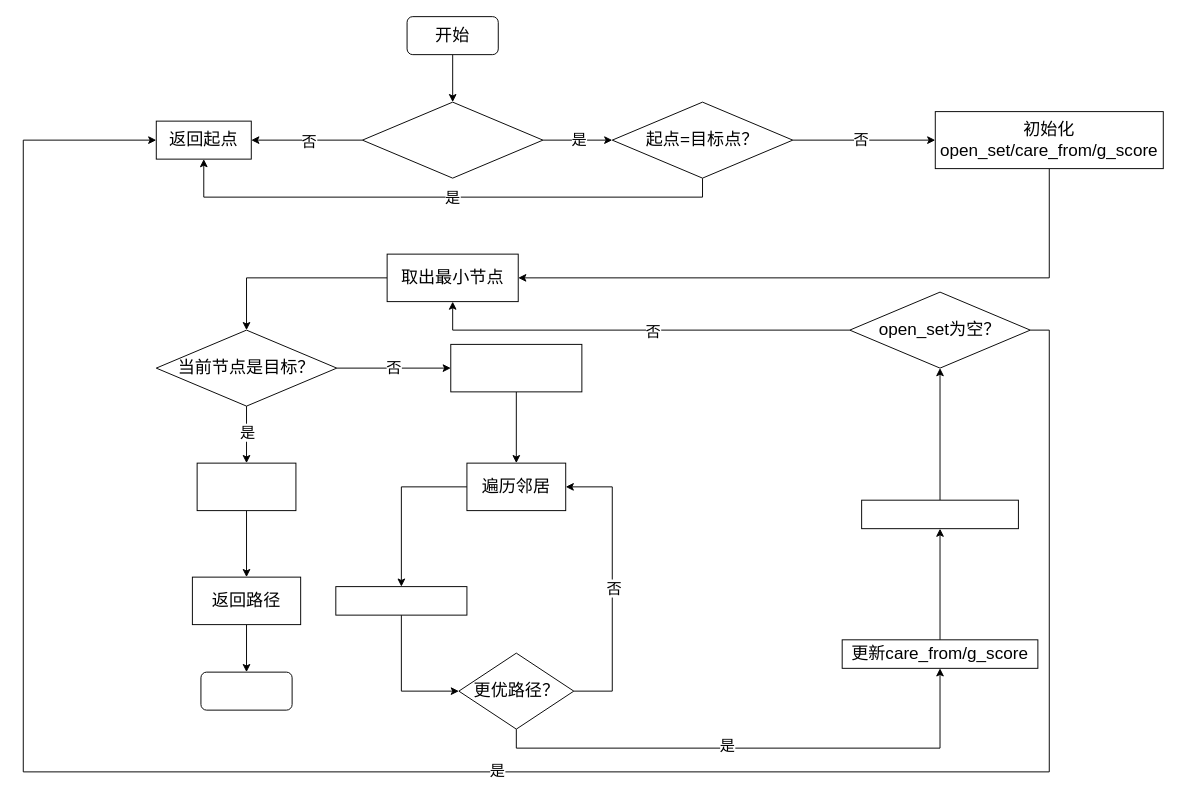
Image size: 1180x796. Some labels were removed from this diagram. Here are the shapes that lost their labels. From the top down, the centre of each, then its label:
(x=452, y=139): 起点/目标点有效？
(x=516, y=367): 获取邻居节点
(x=246, y=486): 回溯路径
(x=939, y=514): 计算f_score并入队
(x=401, y=600): 计算tentative_g
(x=246, y=690): 结束
